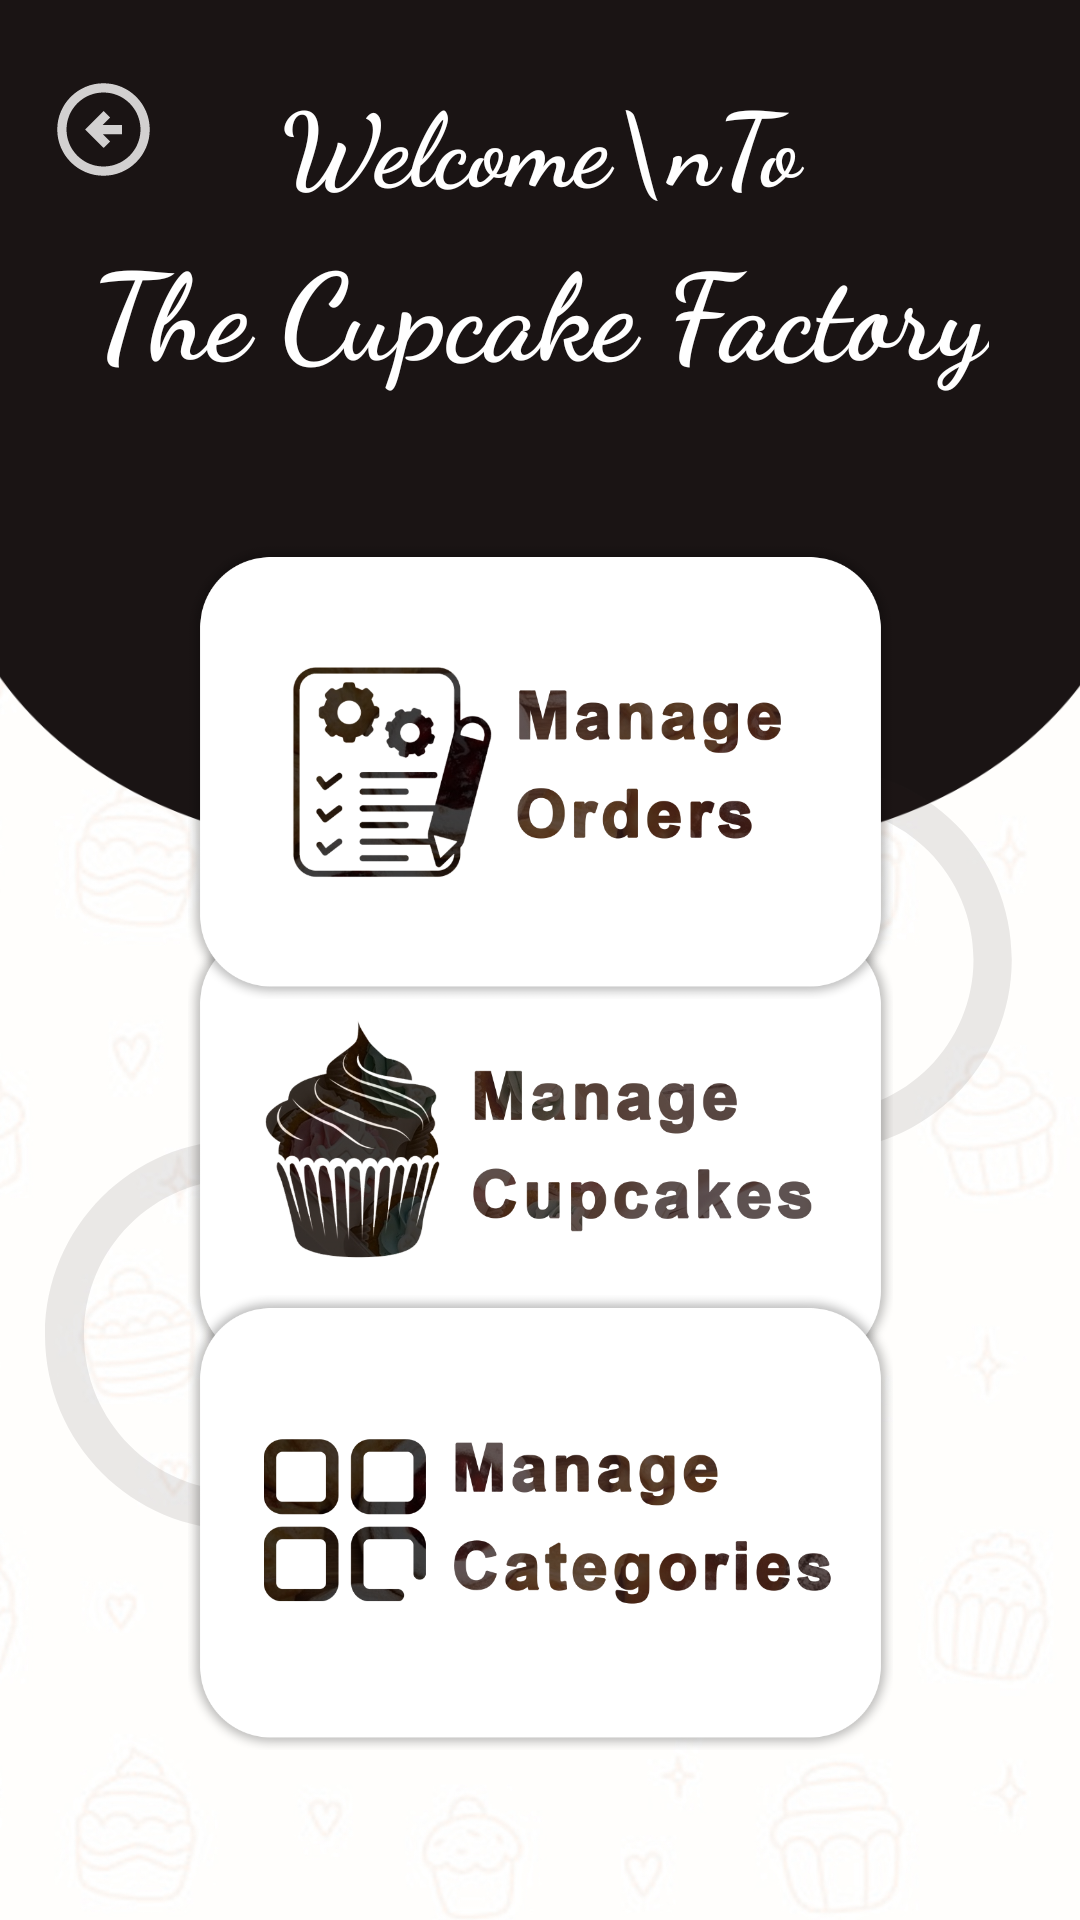

Icons on this 1080*1920 Android screen, each with the point to tap as [x,y]:
back: [103,129]
